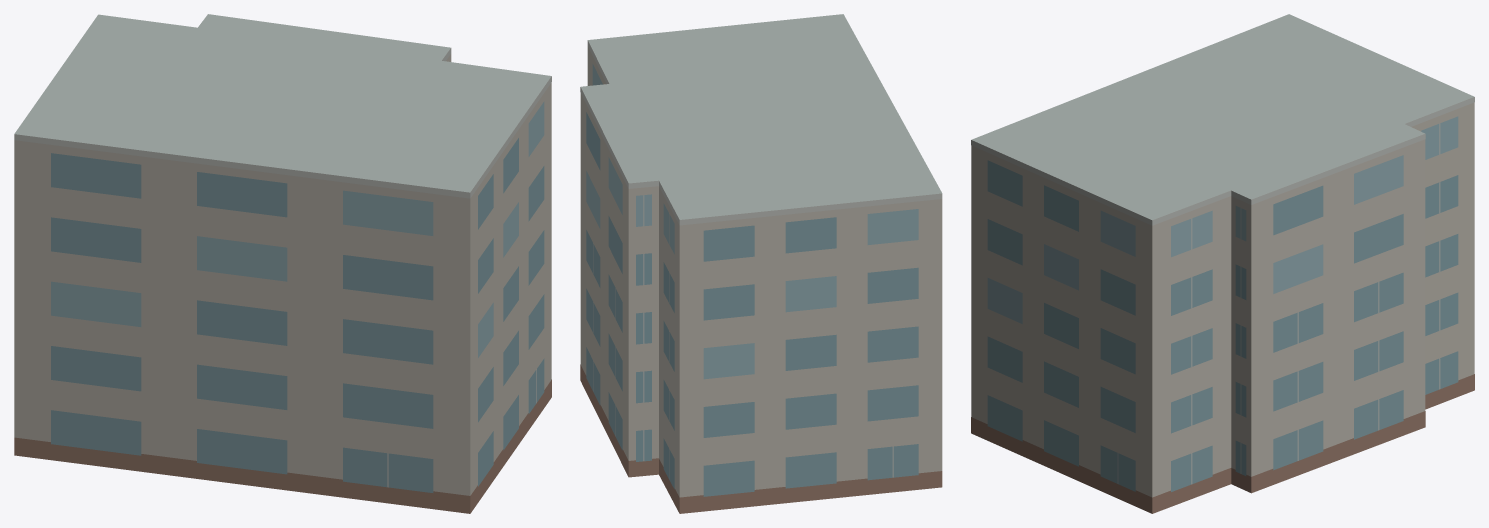
Rendered from survey-upis-32683866.glb.
The picture shows the model from 3 angles, left to right: view 1: azimuth 30°, elevation 25°; view 2: azimuth 150°, elevation 25°; view 3: azimuth 270°, elevation 25°; orthographic projection. The views are drawn at different scales.
Visible parts, largest first — view 1: survey-upis-32683866.tmp; view 2: survey-upis-32683866.tmp; view 3: survey-upis-32683866.tmp.
Boxes of the visible parts, <box> form: survey-upis-32683866.tmp: <box>14,14,551,513</box>; survey-upis-32683866.tmp: <box>580,14,942,513</box>; survey-upis-32683866.tmp: <box>971,14,1474,513</box>.
Bounding box in the file's own units: 19.77 × 13.11 × 20.39.
